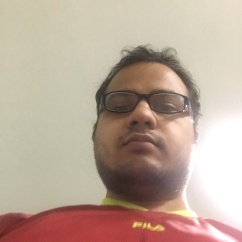glasses: (98, 91, 191, 118)
